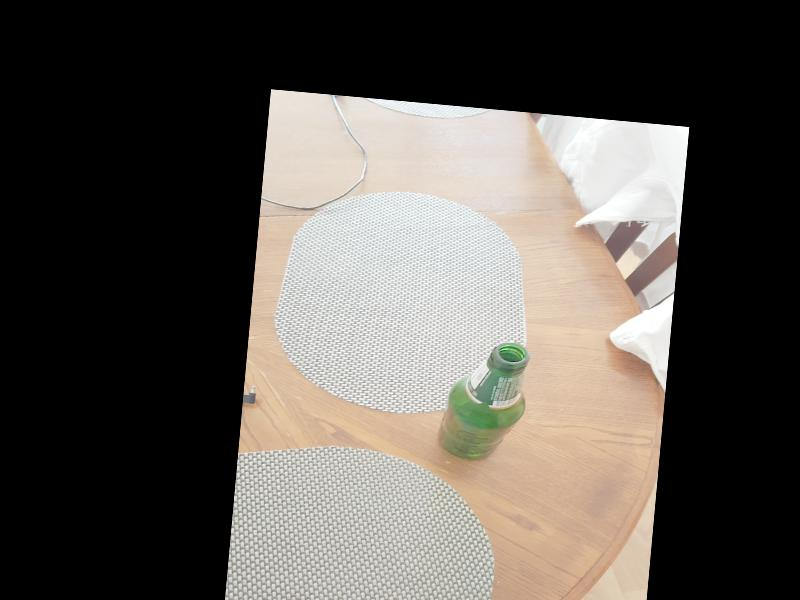Beer: (438, 337, 530, 466)
